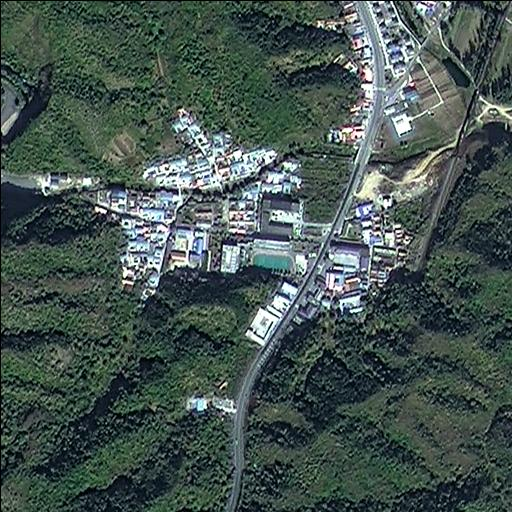school: (207, 230, 321, 278)
